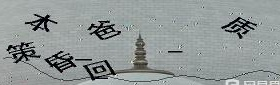chinese: (84, 57, 112, 84), (6, 39, 35, 65), (89, 16, 117, 42), (224, 15, 254, 39), (45, 49, 72, 75), (27, 11, 53, 34)
